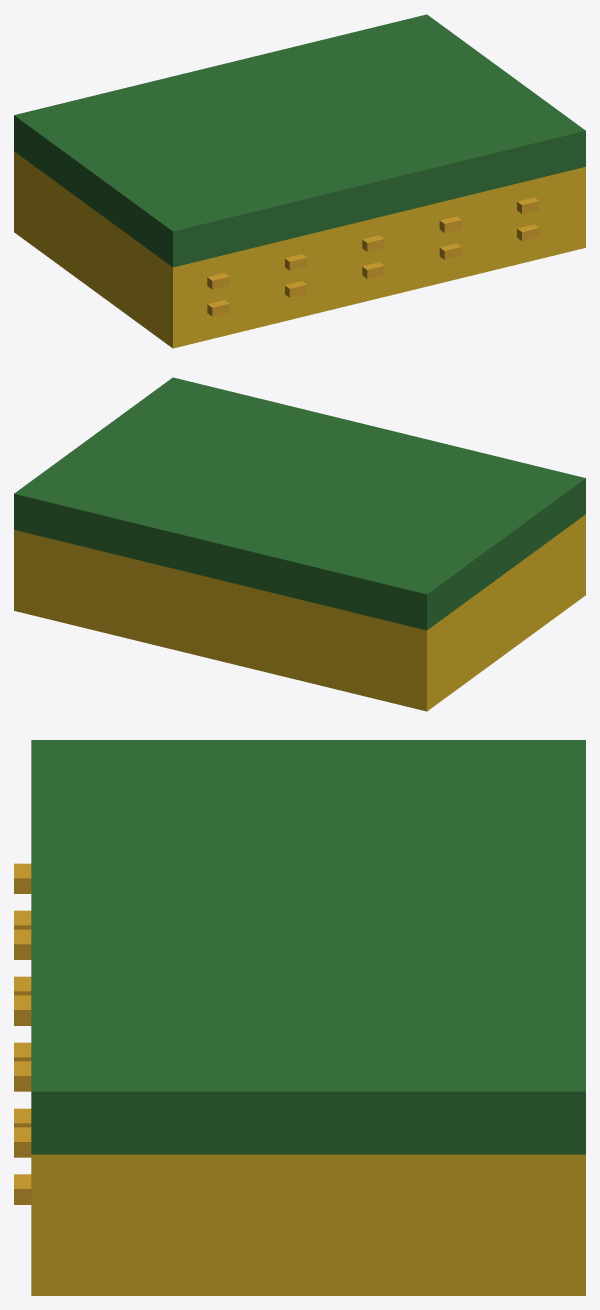
Rendered from sponge.glb.
The picture shows the model from 3 angles, top to bottom: view 1: azimuth 30°, elevation 25°; view 2: azimuth 150°, elevation 25°; view 3: azimuth 270°, elevation 25°; orthographic projection. The views are drawn at different scales.
Parts seen in each view (by area): view 1: sponge:compound; view 2: sponge:compound; view 3: sponge:compound.
Part boxes in pixels (bbox=[...]): sponge:compound: bbox=[14, 14, 585, 348]; sponge:compound: bbox=[14, 377, 585, 711]; sponge:compound: bbox=[14, 740, 585, 1295].
Bounding box in the file's own units: 0.096 × 0.026 × 0.066.
